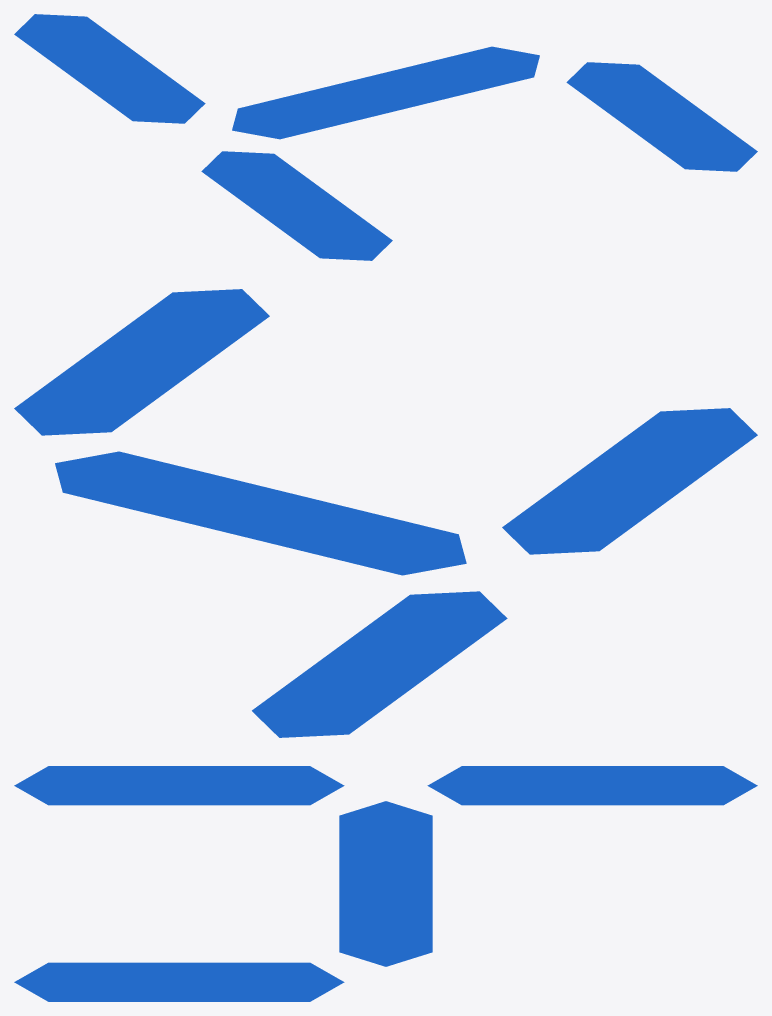
3 renders of one model, top to bottom at view 1: azimuth 30°, elevation 25°; view 2: azimuth 150°, elevation 25°; view 3: azimuth 270°, elevation 25°, orthographic. The views are drawn at different scales.
Size of what is drawn, in the model's own units: 1.62 by 0 by 2.16.
Materials: 1 (1 with a texture image).
